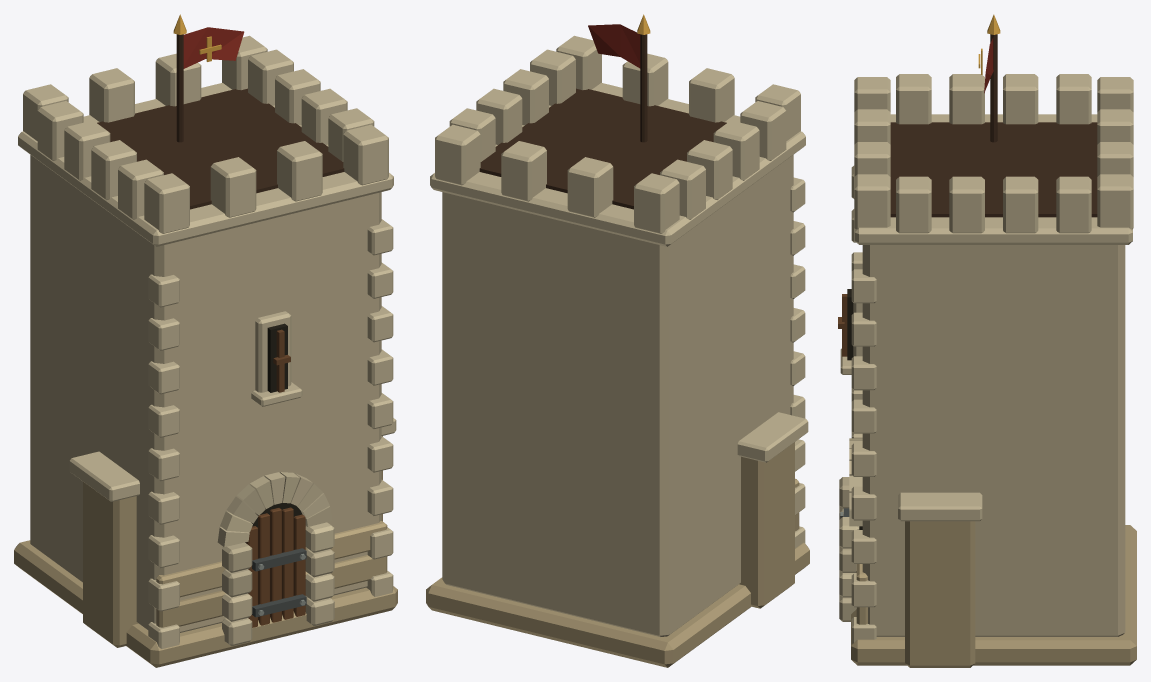
File: tower.glb
3 renders of one model, left to right at view 1: azimuth 30°, elevation 25°; view 2: azimuth 150°, elevation 25°; view 3: azimuth 270°, elevation 25°, orthographic.
Visible parts, largest first — view 1: Stone, Timber, Metal, Fabric; view 2: Stone, Timber, Fabric; view 3: Stone, Timber.
Part boxes in pixels (<box>): Stone: <box>14,35,397,667</box>; Timber: <box>97,34,344,627</box>; Metal: <box>173,14,306,617</box>; Fabric: <box>183,27,244,68</box>; Stone: <box>426,35,809,667</box>; Timber: <box>479,34,726,209</box>; Fabric: <box>588,24,640,68</box>; Stone: <box>839,74,1136,667</box>; Timber: <box>838,34,1097,356</box>.
Size of the model in its own units: 4.01 by 7.76 by 3.62.
